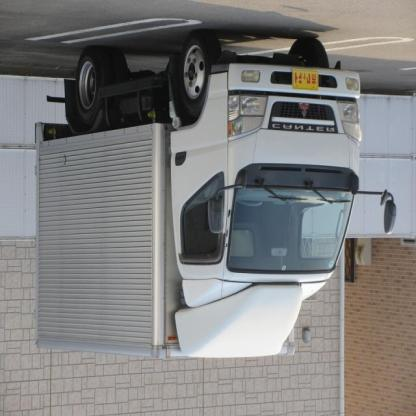truck: (30, 36, 396, 362)
